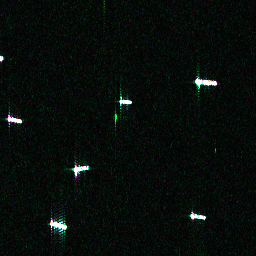ship: (193, 76, 219, 88), (48, 218, 68, 232), (71, 163, 91, 173), (188, 212, 208, 222), (6, 114, 24, 125), (118, 98, 134, 106)
